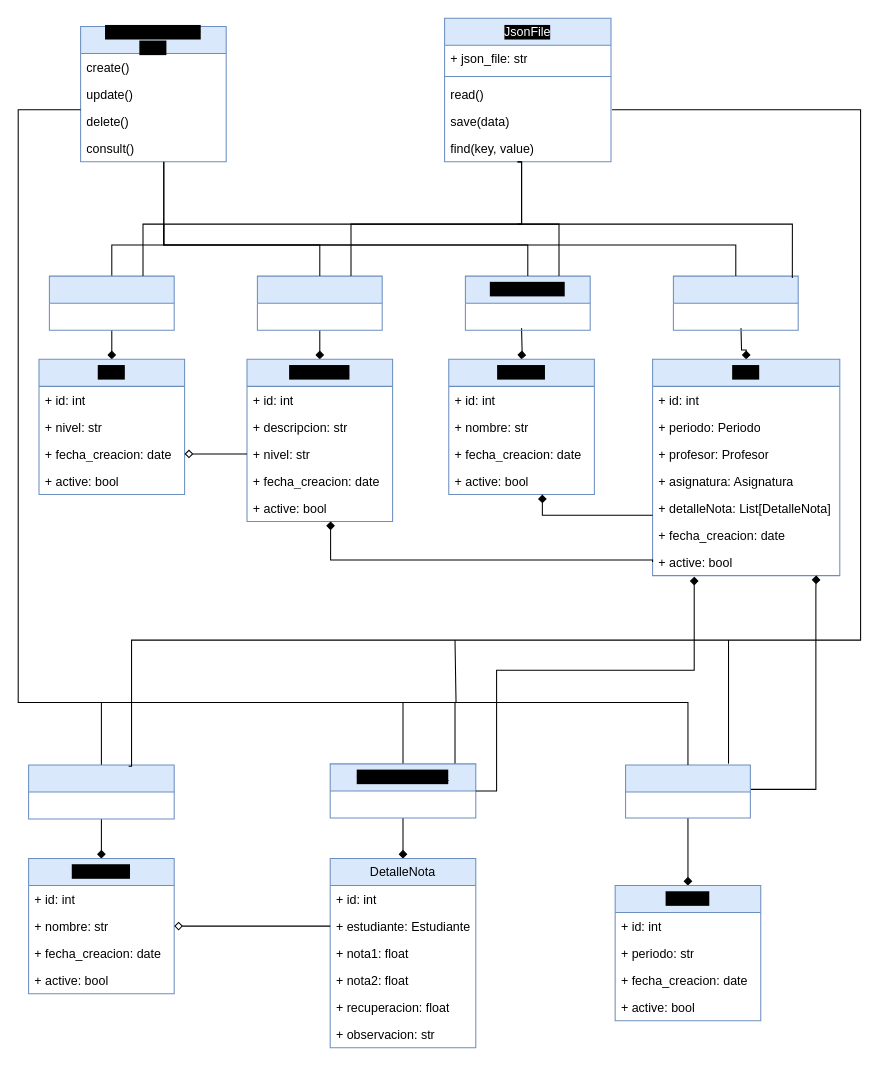
This 880x1069 diagram has some shape labels left out. The shapes that lost their labels are listed below. From the top down, each one's centre as x and y in pixels, then its label:
(111,302): CrudNivel
(319,302): CrudAsignatura
(735,302): CrudNota
(101,791): CrudEstudiante
(687,791): CrudPeriodo
